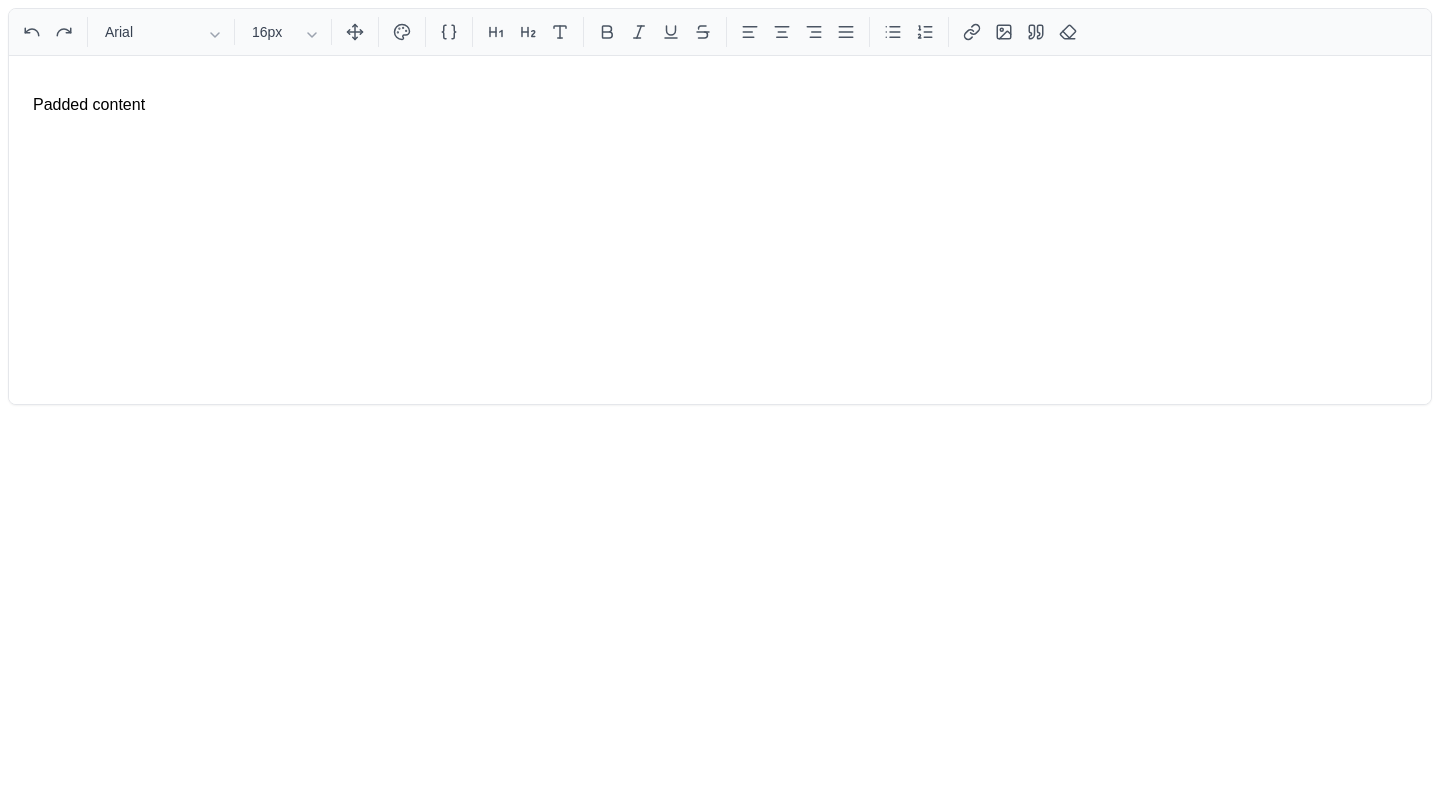
Test: EmailEditor › opens the padding picker and shows side adjustment controls
Click the button titled "Padding & Spacing": (355,32) [340,17,370,47]
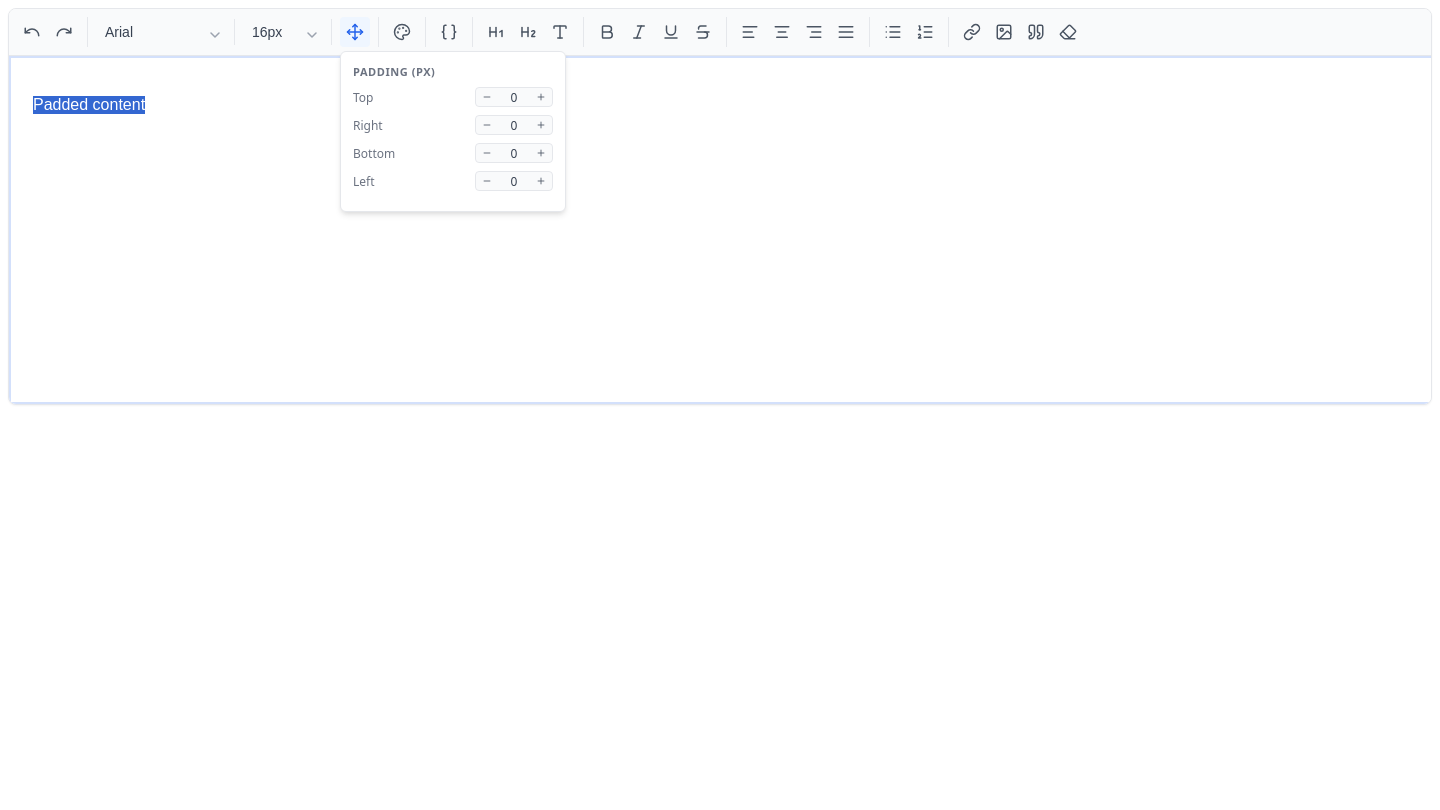
Expected: the text "top" is shown, [353,88,374,106]
Expected: the text "right" is shown, [353,116,383,134]
Expected: the text "bottom" is shown, [353,144,393,162]
Press the mouse on the button titled "Increase": (541,97) [530,88,552,106]
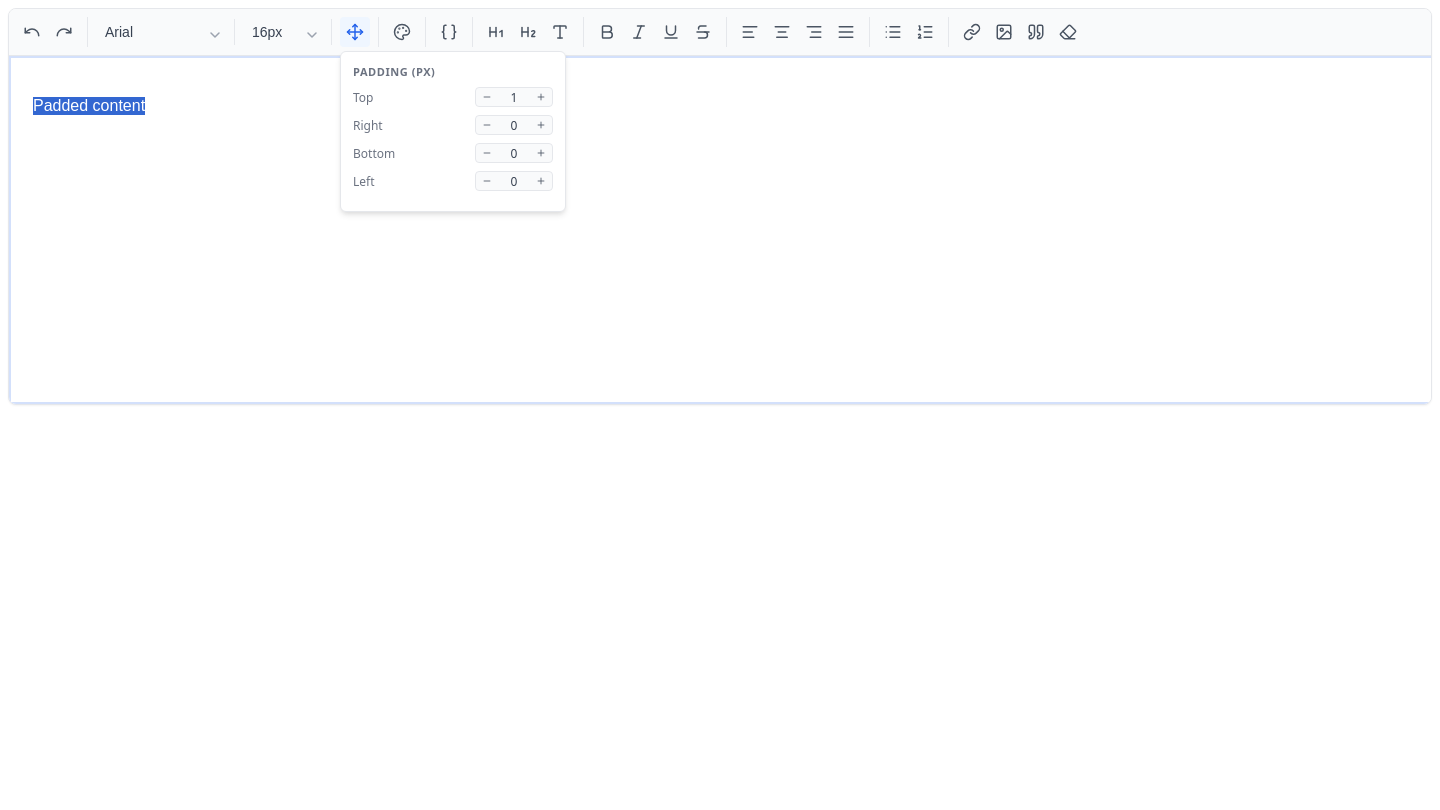
Expected: the text with class "ree-pad-val" reads "1", [511,88,518,106]
